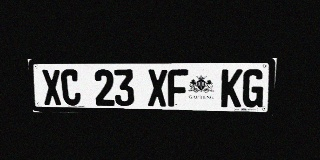2: (94, 69, 115, 106)
3: (114, 69, 134, 106)
C: (60, 69, 81, 105)
F: (168, 69, 188, 107)
G: (242, 69, 265, 108)
K: (221, 69, 243, 107)
X: (41, 69, 62, 105), (147, 69, 167, 106)
